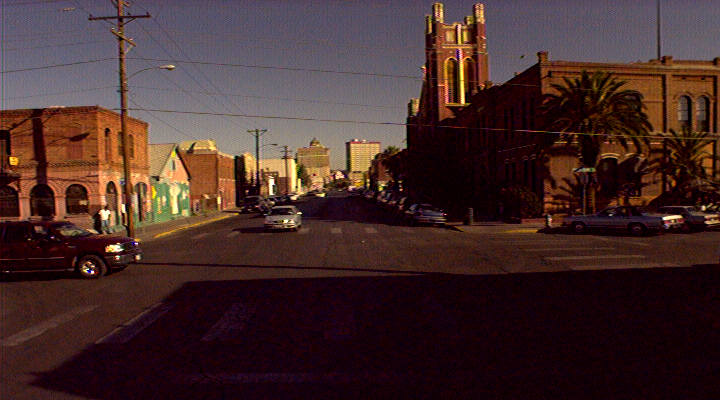Ramp: (454, 219, 520, 239), (131, 226, 163, 243)
